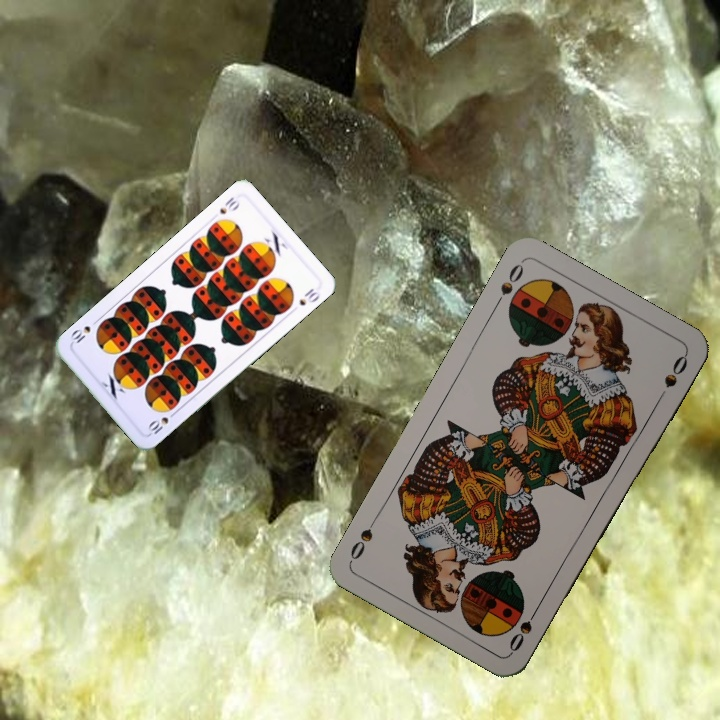S10: (144, 407, 180, 437), (215, 192, 243, 217)
SO: (505, 601, 543, 655), (490, 259, 527, 311)
